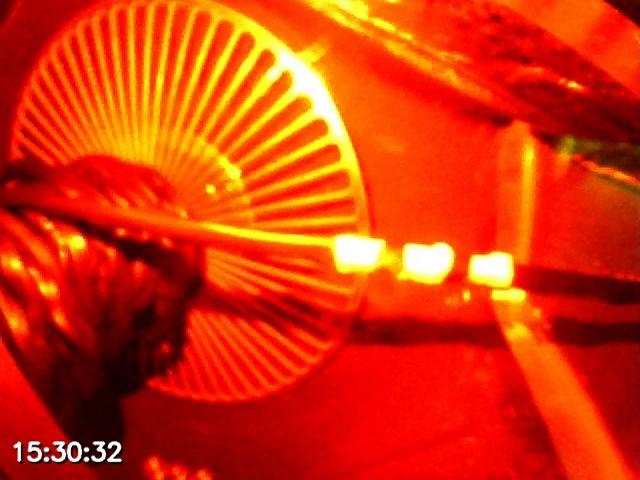white-dots: (331, 233, 515, 288)
